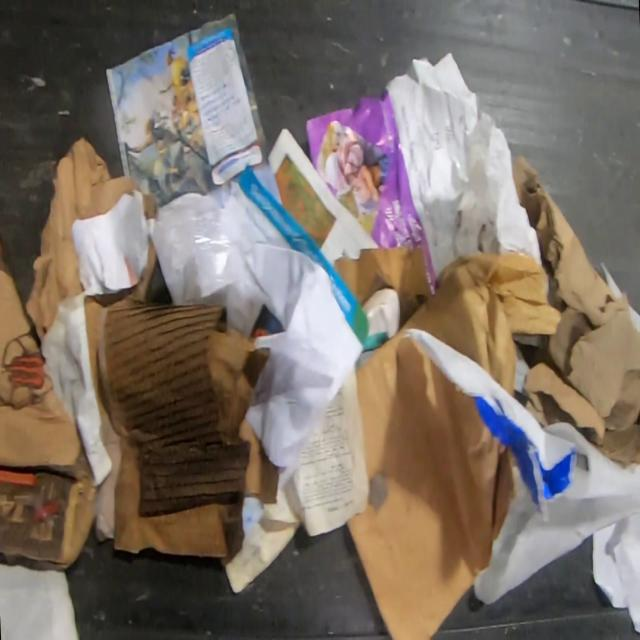cardboard: (344, 329, 516, 639), (95, 302, 278, 560), (512, 154, 639, 466), (0, 266, 96, 570), (24, 135, 157, 348), (400, 250, 562, 399), (85, 229, 157, 415), (332, 248, 432, 330)
soft_plastic: (147, 193, 266, 333)
